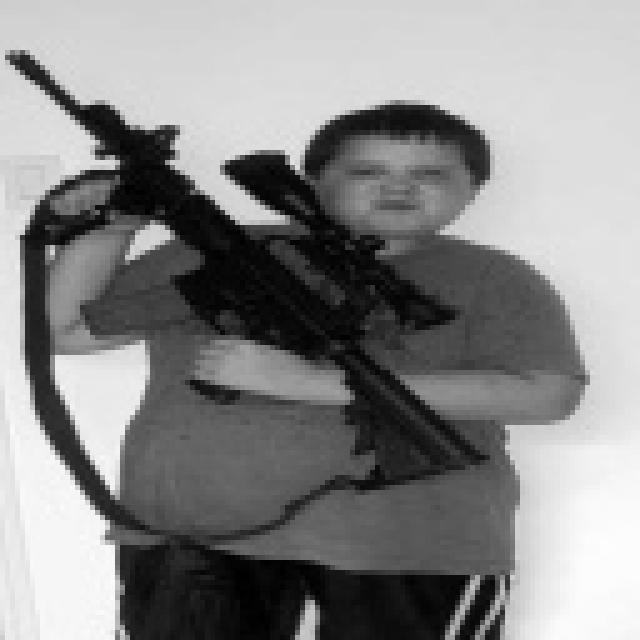Rifle: (0, 0, 491, 559)
